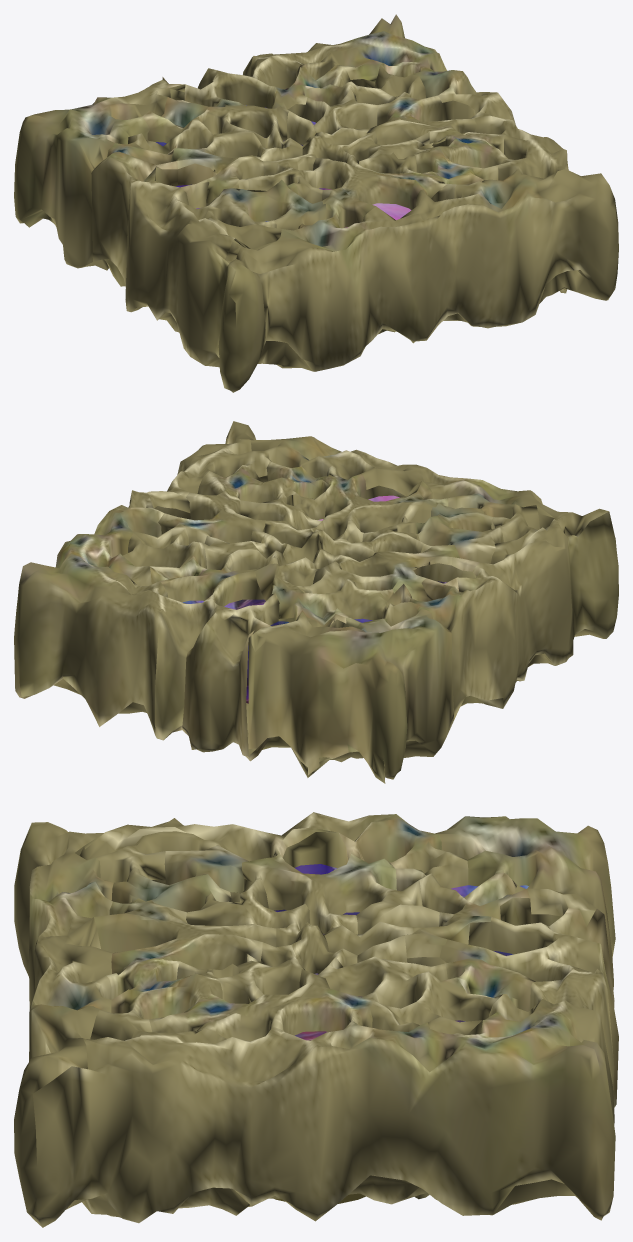
Rendered from tile002V2_lowPolyCompressed.glb.
The picture shows the model from 3 angles, top to bottom: view 1: azimuth 30°, elevation 25°; view 2: azimuth 150°, elevation 25°; view 3: azimuth 270°, elevation 25°; orthographic projection. The views are drawn at different scales.
Parts seen in each view (by area): view 1: tile6.003; view 2: tile6.003; view 3: tile6.003.
Part boxes in pixels (bbox=[...]): tile6.003: bbox=[14, 14, 618, 392]; tile6.003: bbox=[14, 421, 618, 783]; tile6.003: bbox=[14, 812, 618, 1227].
Bounding box in the file's own units: 1.01 × 0.4751 × 1.01.
Materials: 3 (3 with a texture image).
